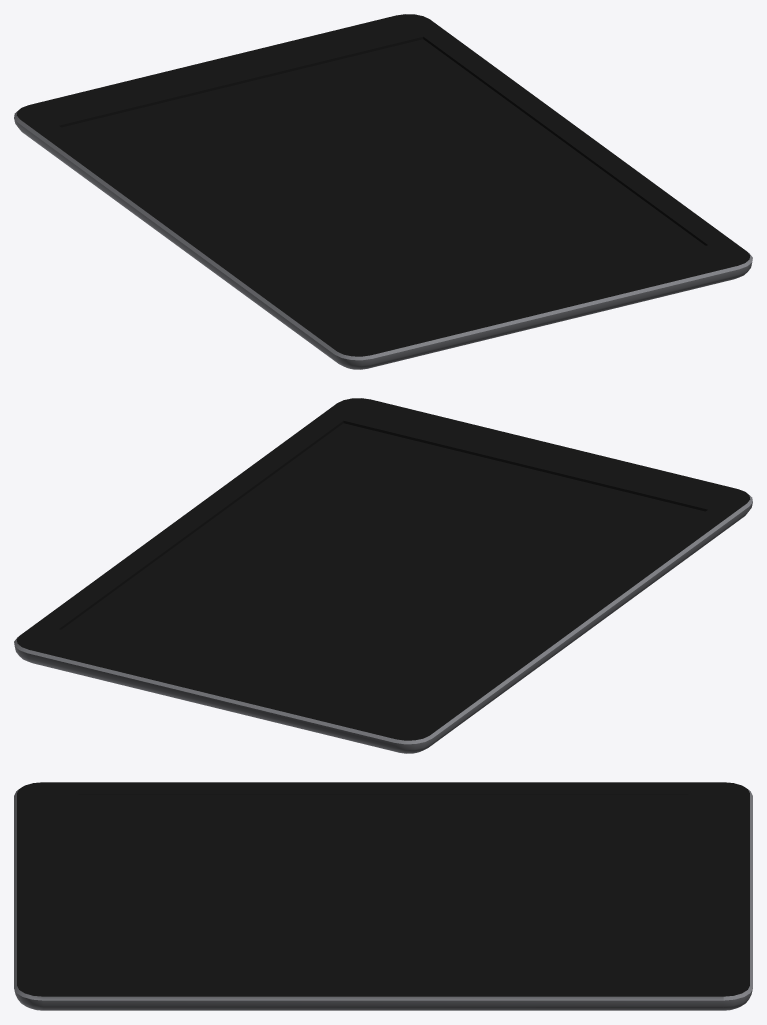
Rendered from tablet.fbx.
3 views of the same model, one above another, from view 1: azimuth 30°, elevation 25°; view 2: azimuth 150°, elevation 25°; view 3: azimuth 270°, elevation 25° (orthographic). The views are drawn at different scales.
Parts seen in each view (by area): view 1: 平面; view 2: 平面; view 3: 平面.
Part boxes in pixels (x1,y1,x2,y2): 平面: (14,14,752,369); 平面: (14,398,752,753); 平面: (14,782,752,1010).
Bounding box in the file's own units: 0.1741 × 0.007 × 0.2506.
Materials: 2 (2 with a texture image).
